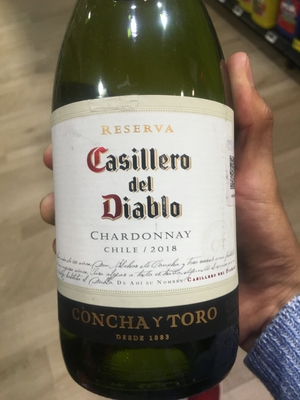casillero del diablo chardonnay: (51, 12, 242, 384)
